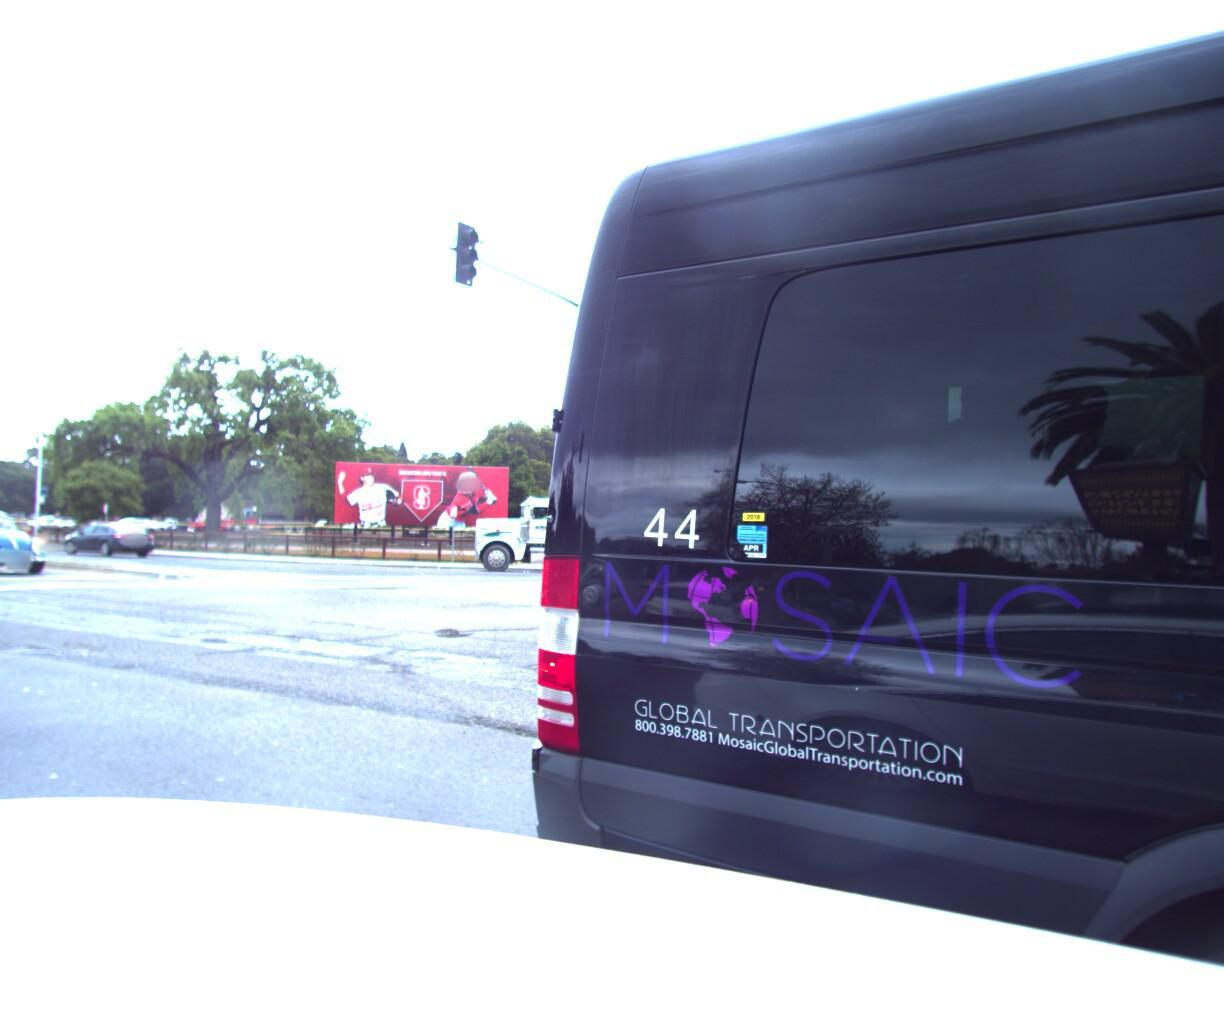car: (0, 507, 61, 580), (61, 521, 160, 557)
truck: (469, 486, 754, 581)
